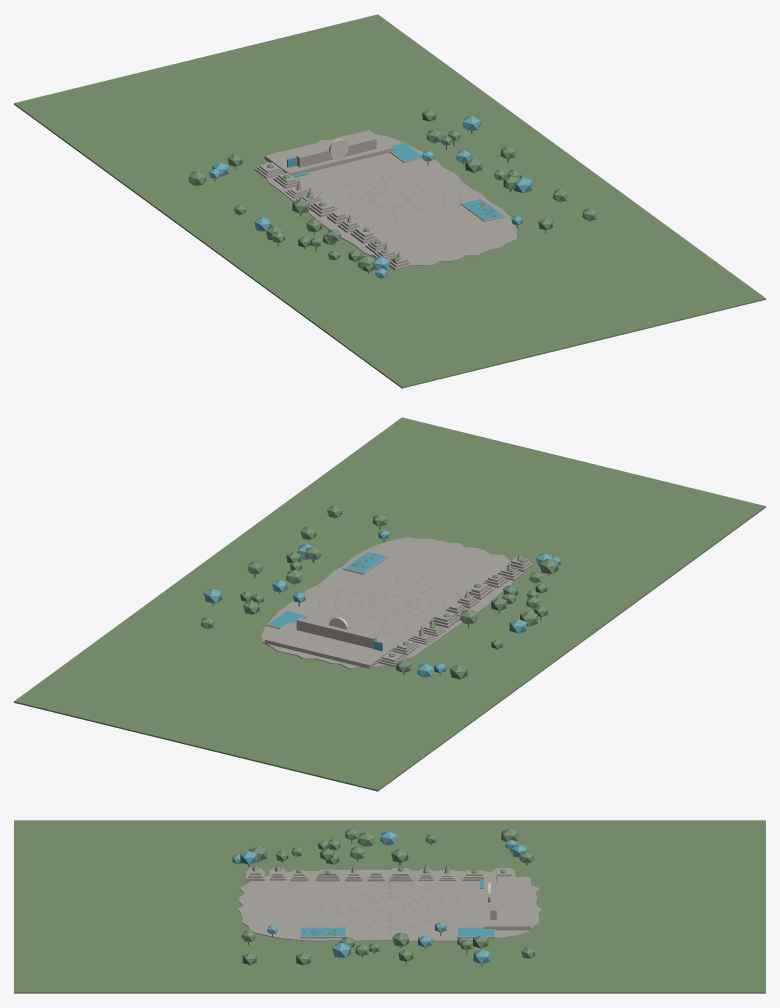
Rendered from lotus.glb.
The picture shows the model from 3 angles, top to bottom: view 1: azimuth 30°, elevation 25°; view 2: azimuth 150°, elevation 25°; view 3: azimuth 270°, elevation 25°; orthographic projection. The views are drawn at different scales.
Parts seen in each view (by area): view 1: Static; view 2: Static; view 3: Static.
Part boxes in pixels (box(x1,y1,x2,y2)): Static: box(14, 14, 765, 388); Static: box(14, 417, 765, 791); Static: box(14, 820, 765, 993).
Bounding box in the file's own units: 52 × 3.7 × 96.
